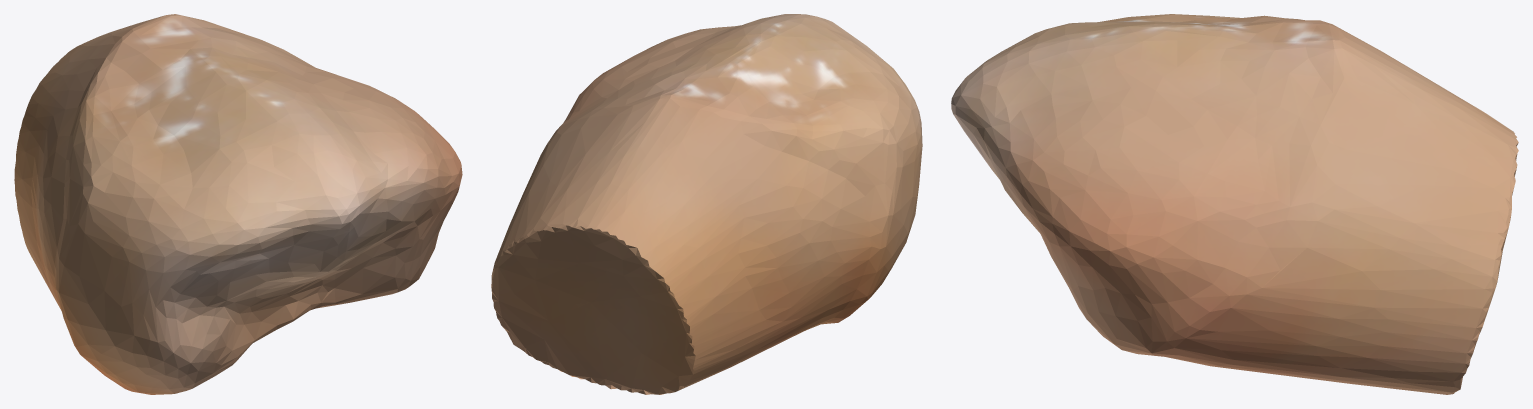
File: local_t23_7780.OBJ
3 renders of one model, left to right at view 1: azimuth 30°, elevation 25°; view 2: azimuth 150°, elevation 25°; view 3: azimuth 270°, elevation 25°, orthographic. The views are drawn at different scales.
Parts seen in each view (by area): view 1: ZBrush_defualt_group; view 2: ZBrush_defualt_group; view 3: ZBrush_defualt_group.
Part boxes in pixels (<box>): ZBrush_defualt_group: <box>14,14,462,394</box>; ZBrush_defualt_group: <box>491,14,922,394</box>; ZBrush_defualt_group: <box>951,14,1518,394</box>.
Bounding box in the file's own units: 8.17 × 6.45 × 10.26.
Materials: 1 (1 with a texture image).
